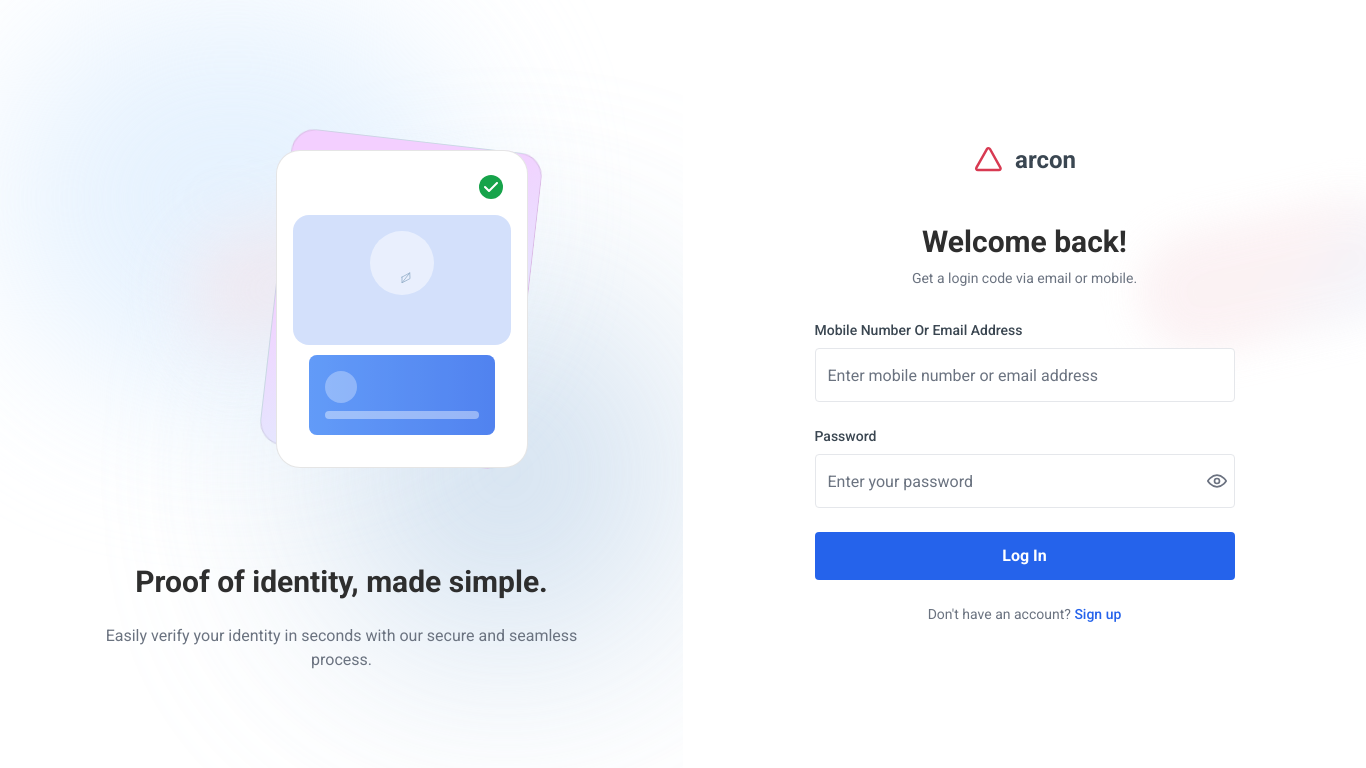
Test case: Login page › handles network error gracefully
The width and height of the screenshot is (1366, 768).
Type "alice@example.com" into the field with placeholder "Enter mobile number or email address" at (1024, 375), box [814, 348, 1234, 402]
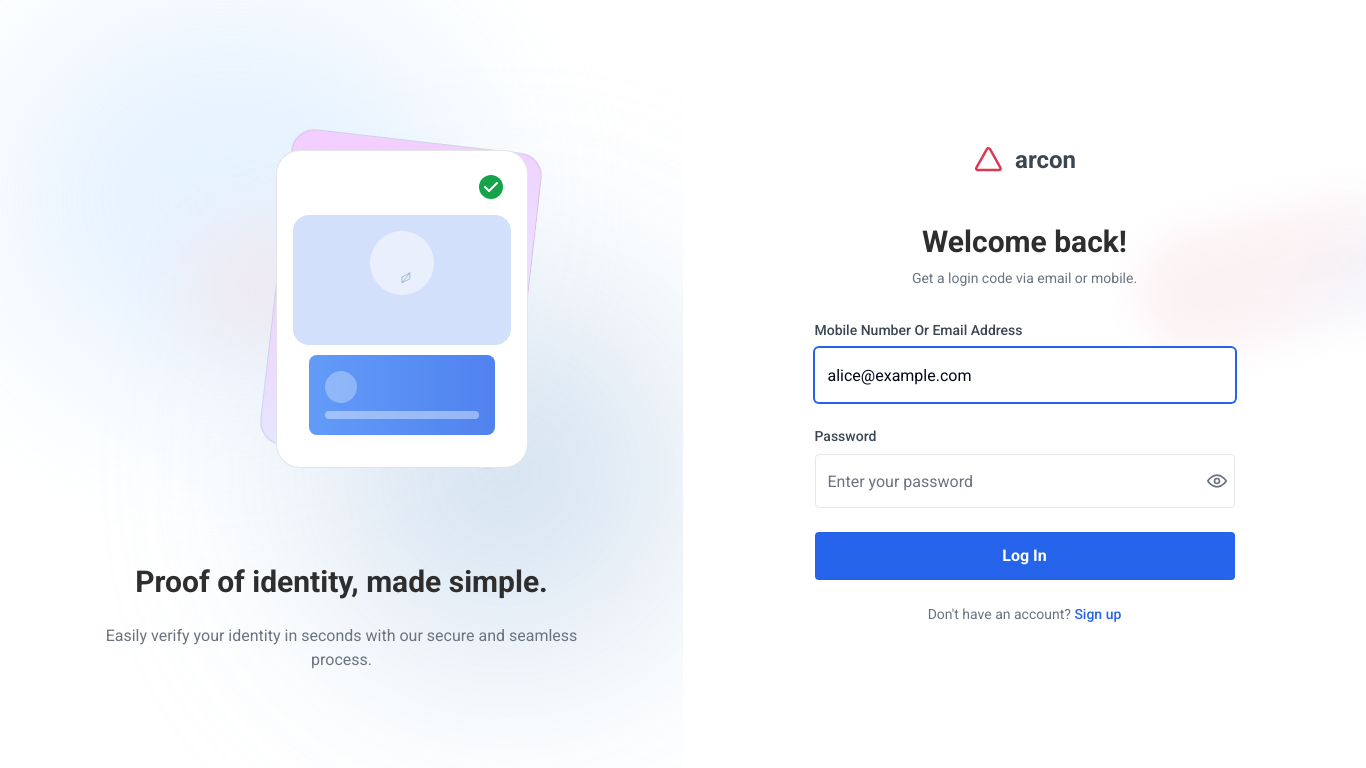
Type "secret1" into the password field with placeholder "Enter your password" at (1024, 481), box [814, 454, 1234, 508]
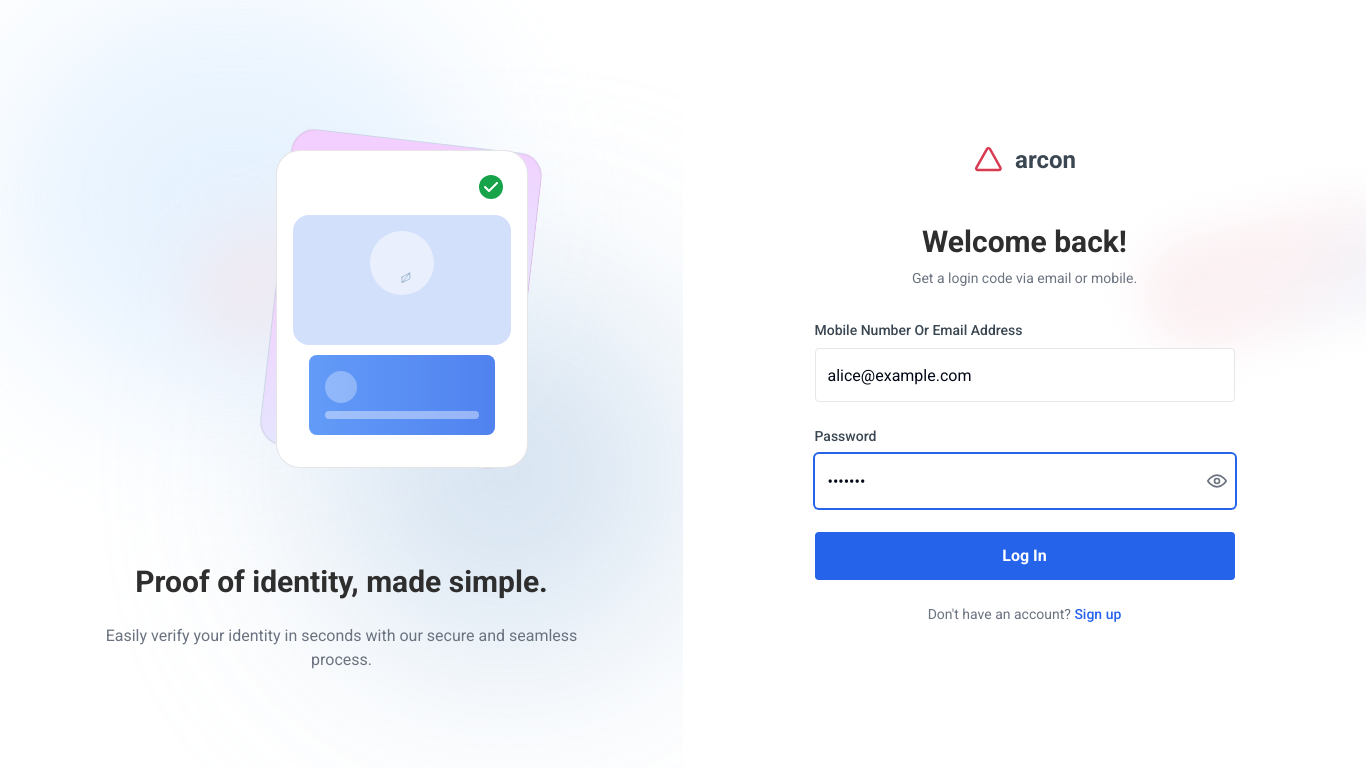
Click the button "Log In" at (1024, 556), box [814, 532, 1234, 580]
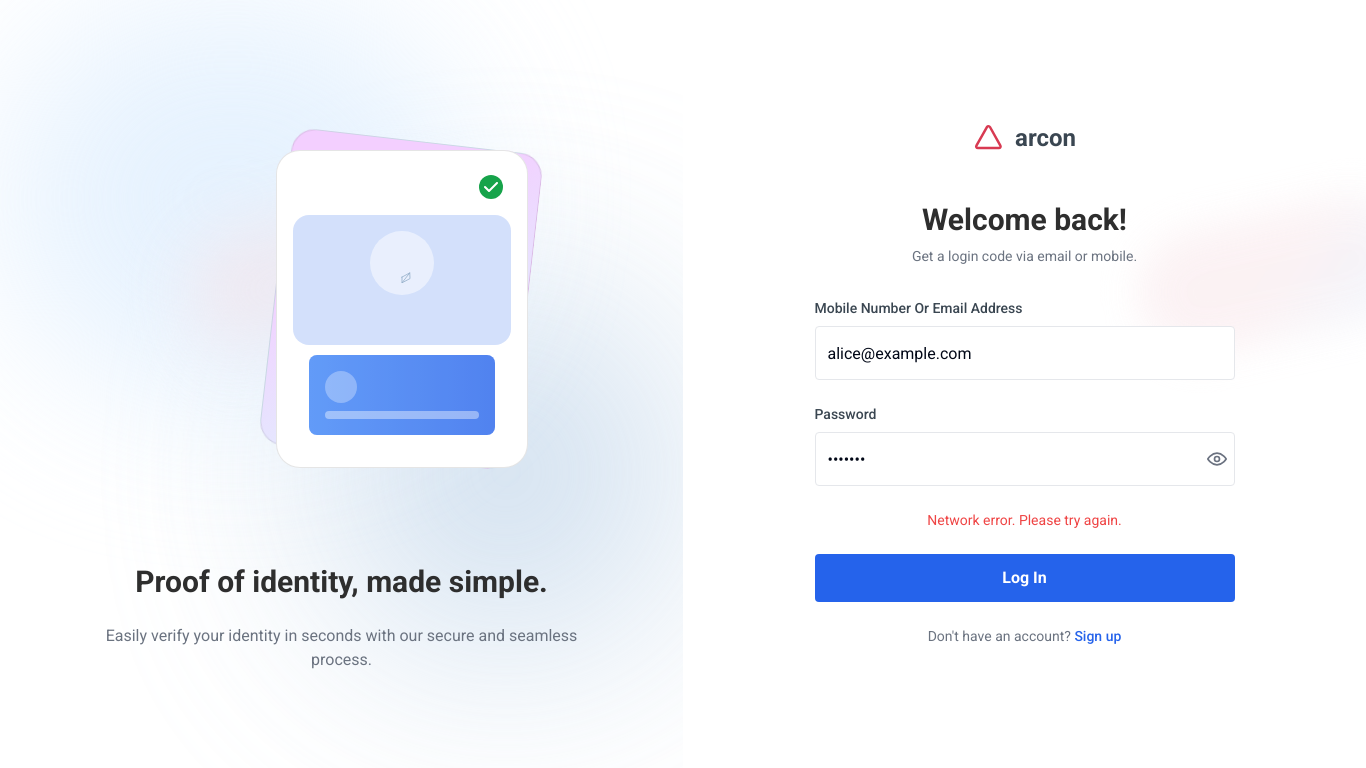
Expected: the text "Network error. Please try again." is shown, [927, 512, 1122, 528]
